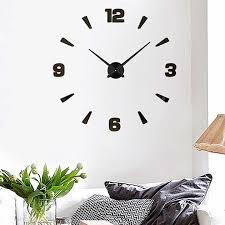Indoor Plant: (0, 165, 84, 225)
clock: (52, 8, 177, 132)
lamp: (195, 111, 225, 155)
pillow: (70, 175, 210, 225)
